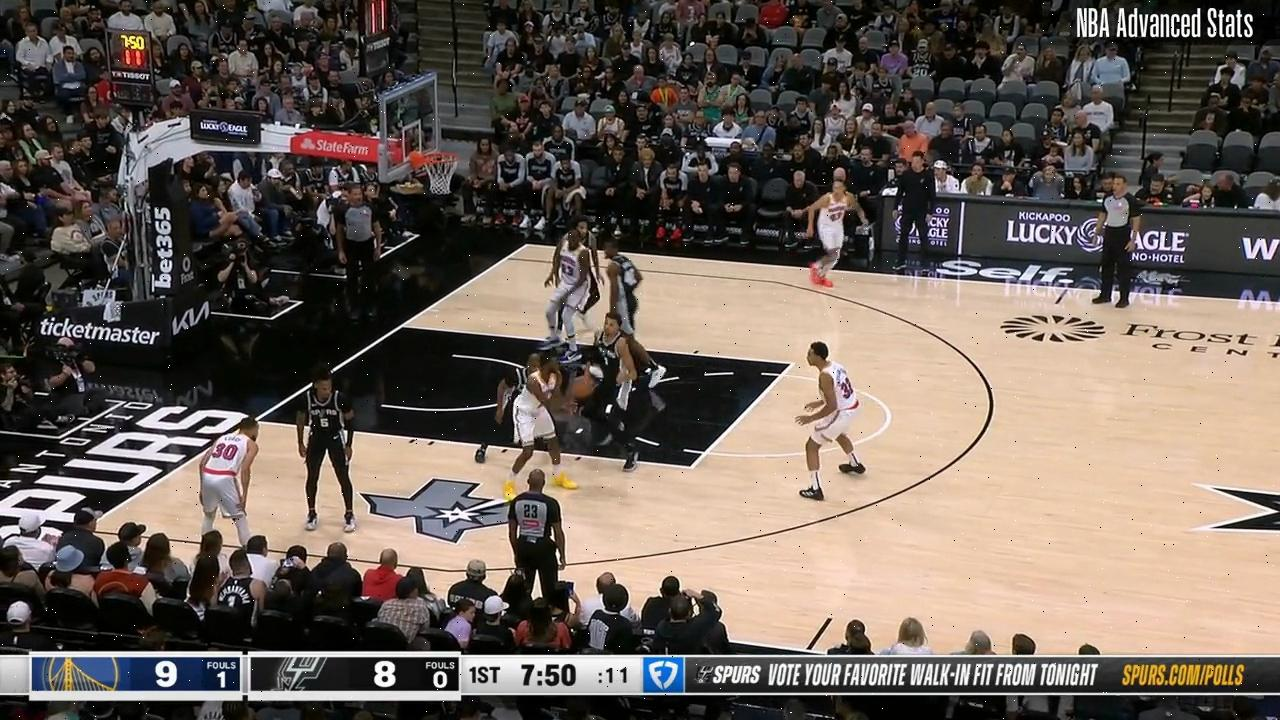basketball: (565, 371, 601, 406)
